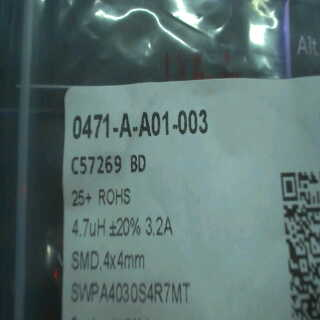4.7uH: (69, 213, 110, 242)
